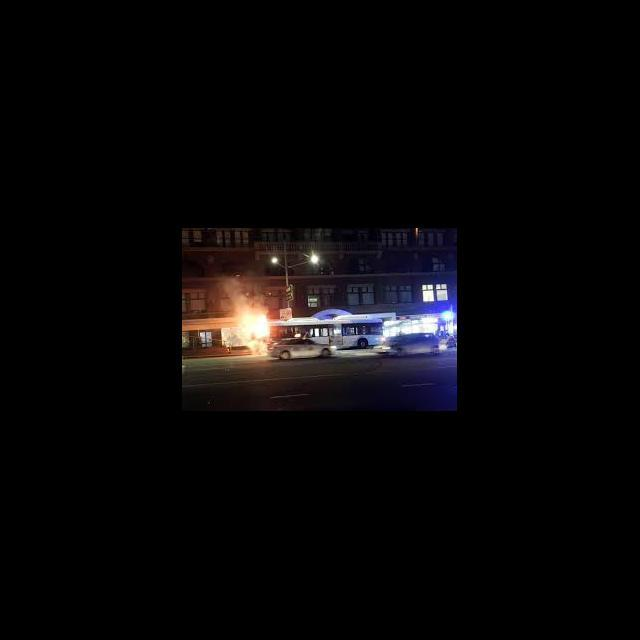Fire: (226, 282, 272, 358)
